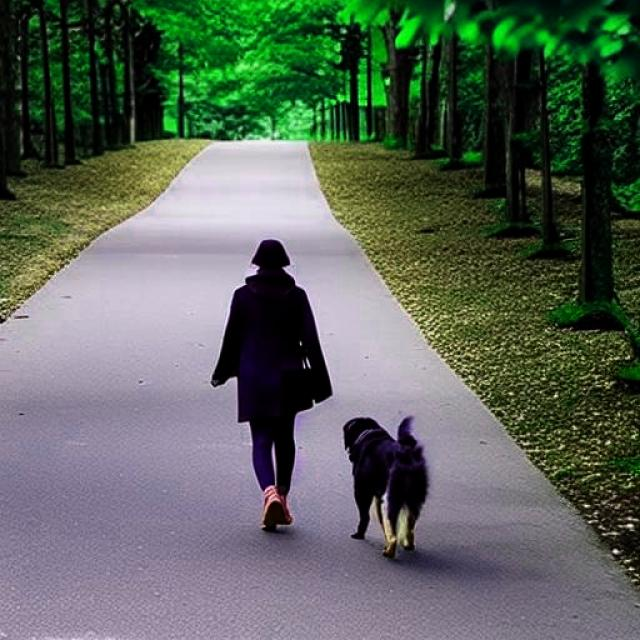Unleashed_Dog: (252, 371, 428, 559)
